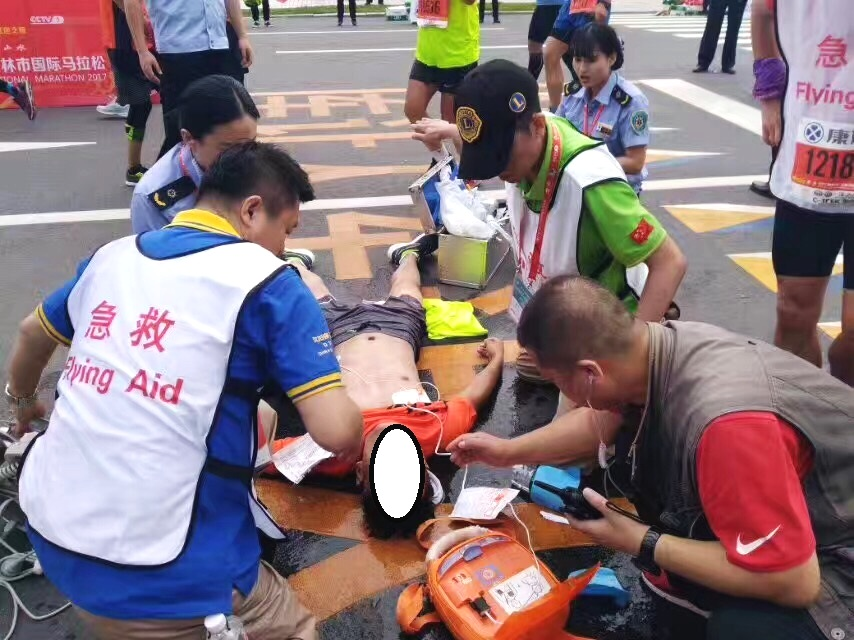10+: (8, 3, 846, 632)
down: (251, 201, 518, 531)
